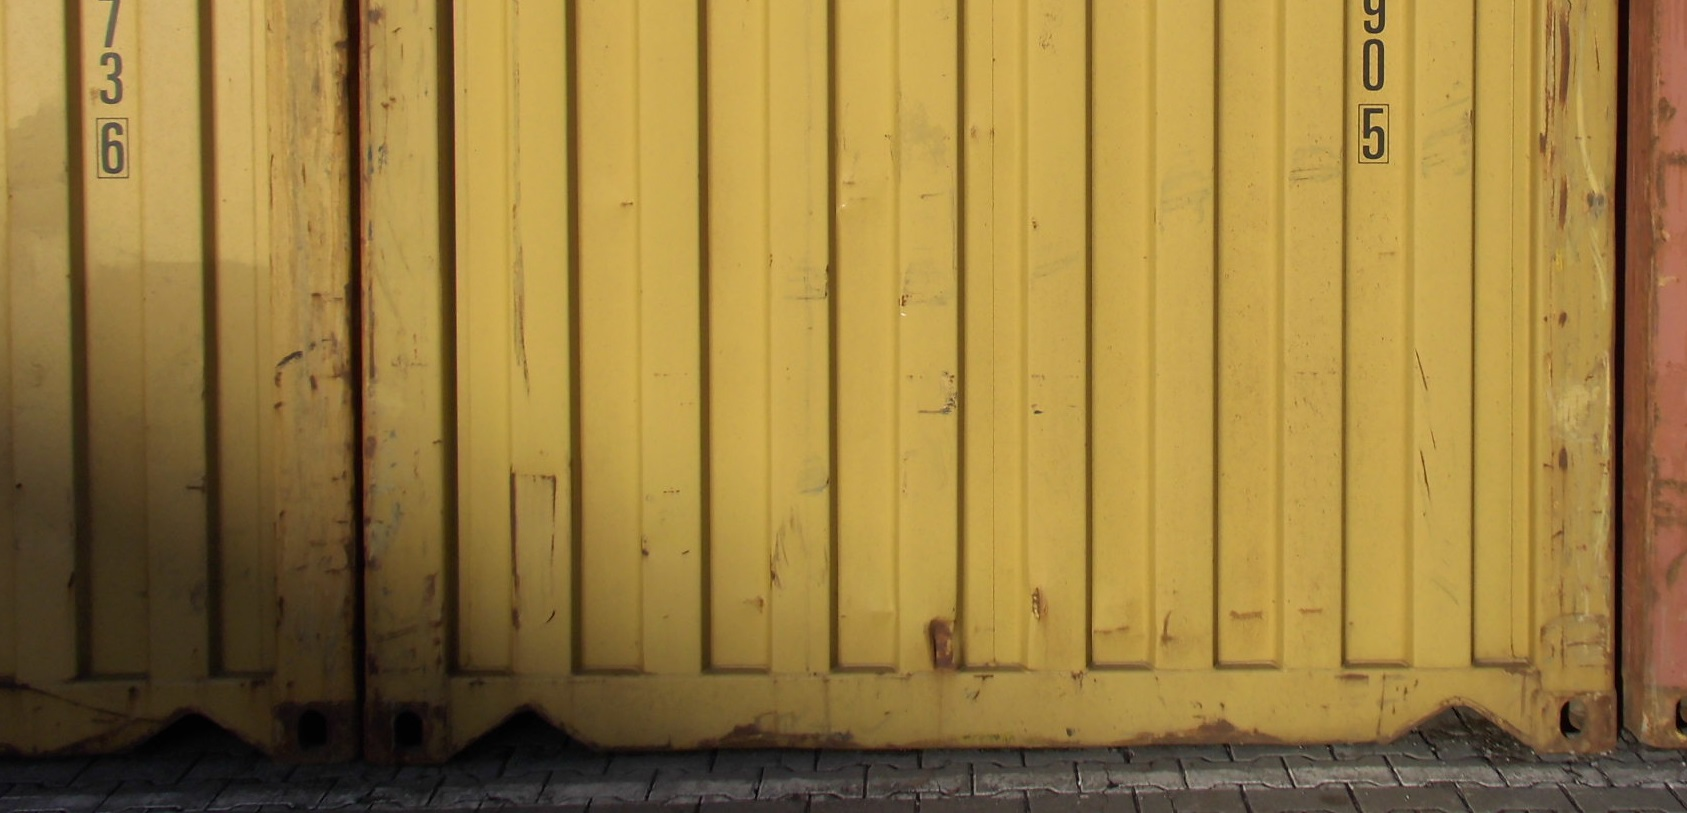container_no_door: (365, 1, 1626, 778)
